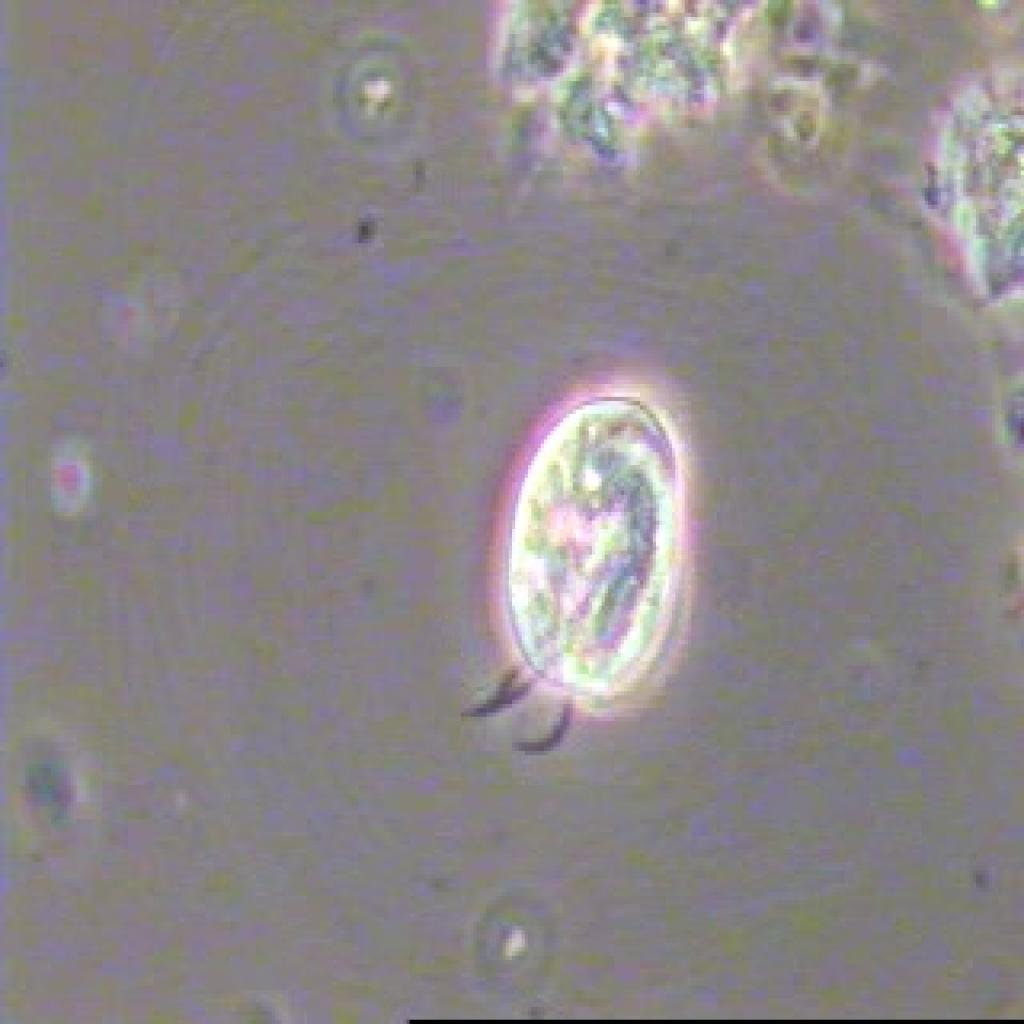Aspidisca: (453, 360, 696, 762)
